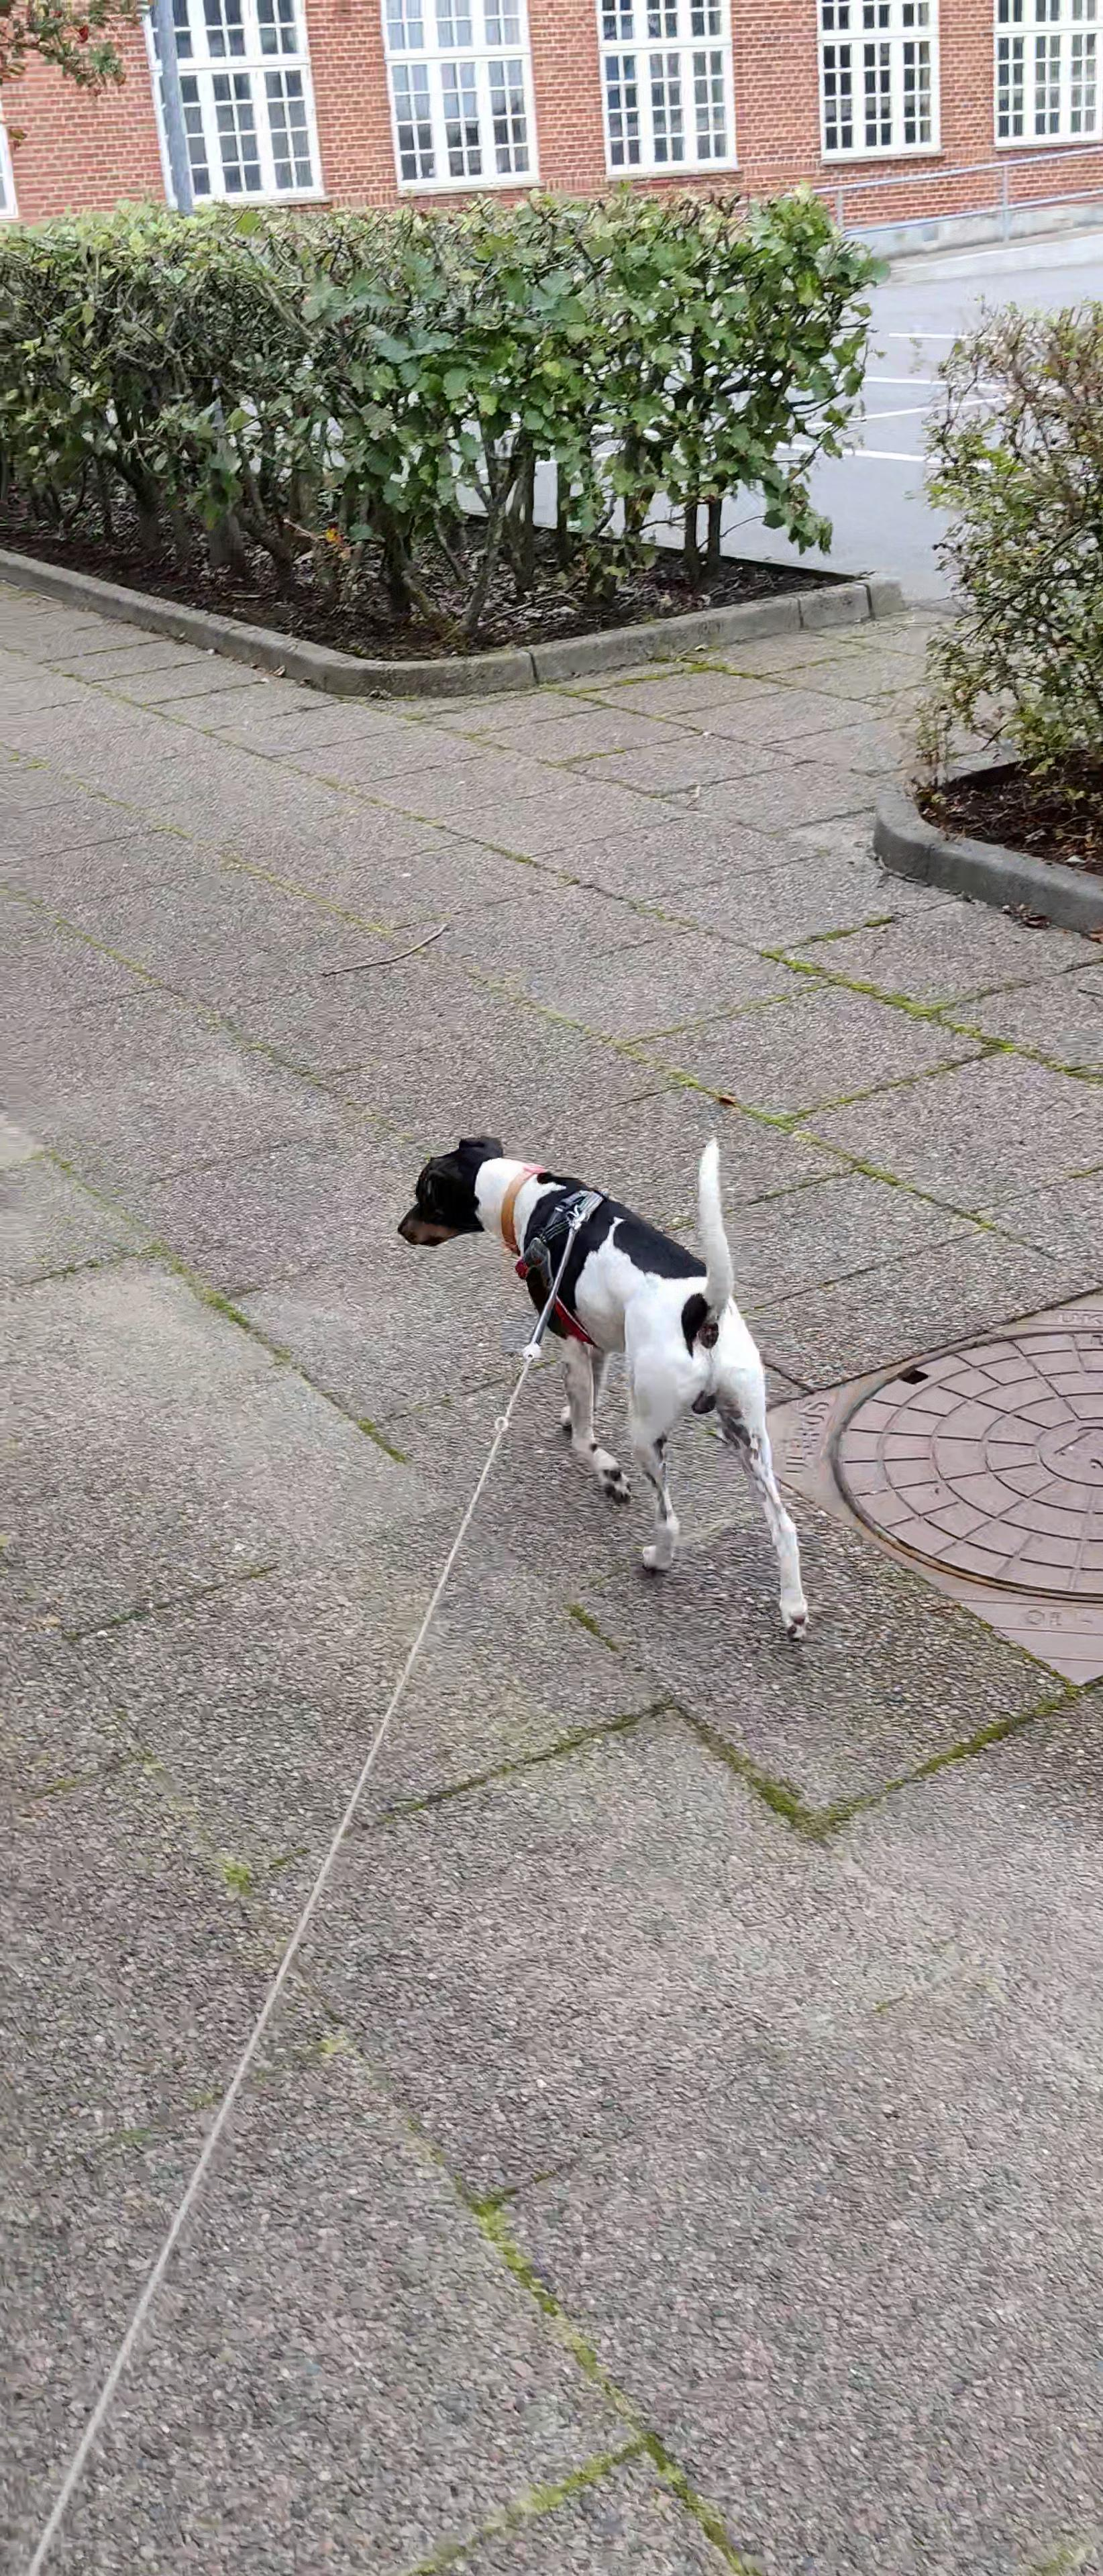Dog: (375, 1096, 825, 1649)
